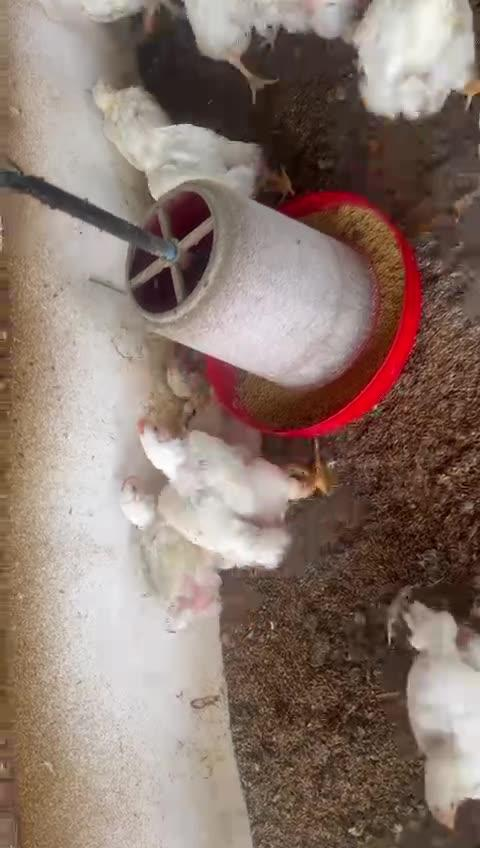AbNormal: (92, 75, 168, 169), (169, 359, 226, 444)
Normal: (140, 412, 330, 568), (120, 477, 250, 633), (404, 599, 480, 832), (120, 114, 294, 211), (177, 0, 350, 89), (357, 2, 480, 117), (43, 0, 161, 40)
